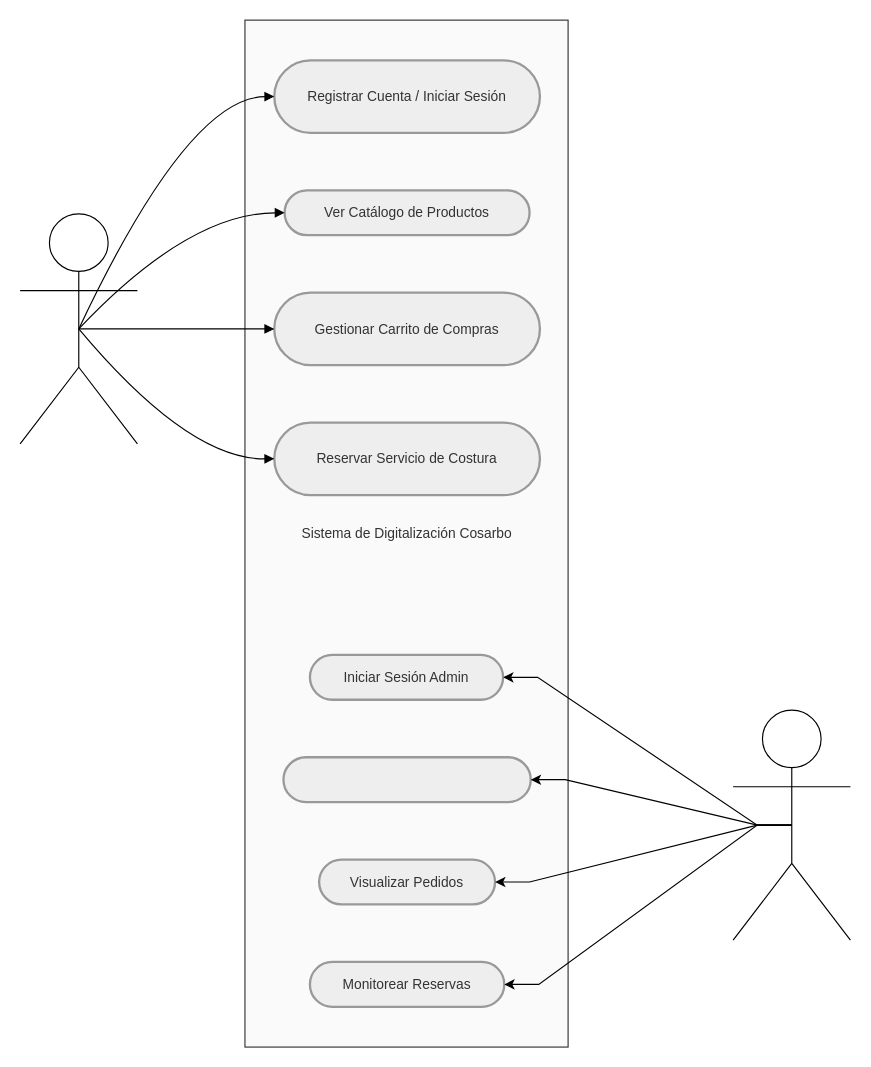
This 871x1067 diagram has some shape labels left out. The shapes that lost their labels are listed below. From the top down, each one's box as (x1, y1, x2, y2) in pixels, then its label:
(19, 213, 137, 444): Cliente
(282, 756, 531, 803): Gestionar Inventario CRUD
(732, 709, 850, 940): Administrador
